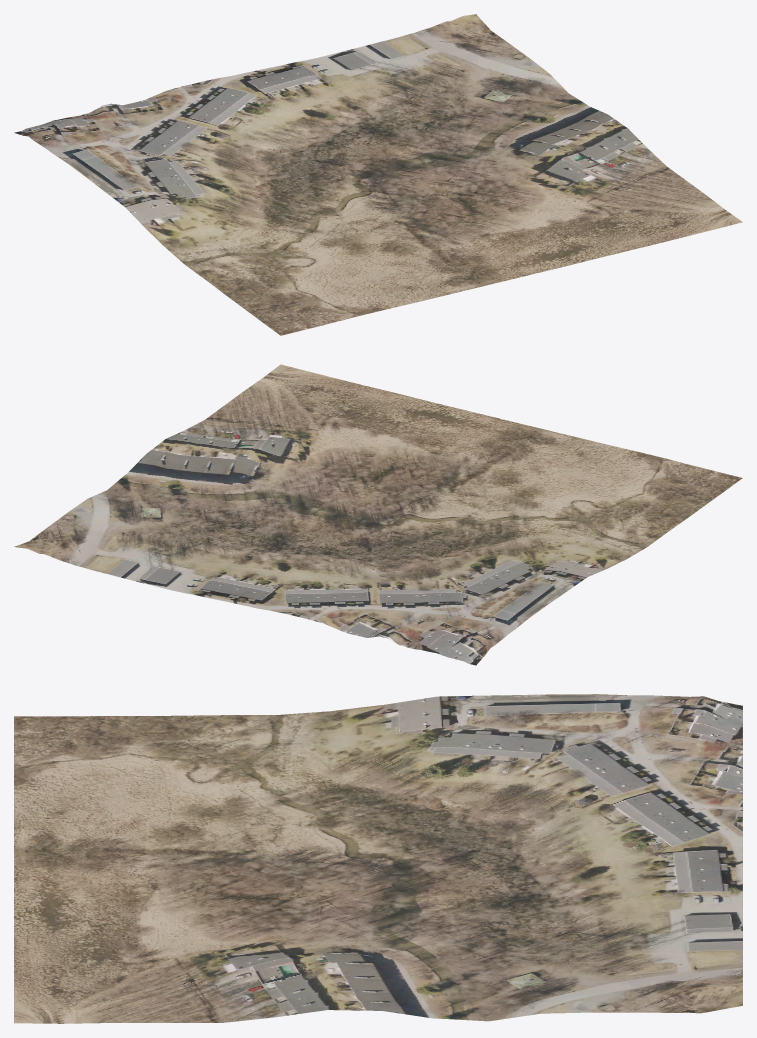
The model's file is CM_Terrain_24490458_6819384.fbx.
3 renders of one model, top to bottom at view 1: azimuth 30°, elevation 25°; view 2: azimuth 150°, elevation 25°; view 3: azimuth 270°, elevation 25°, orthographic. The views are drawn at different scales.
Visible parts, largest first — view 1: CM_Terrain_24490458_6819384_LOD0; view 2: CM_Terrain_24490458_6819384_LOD0; view 3: CM_Terrain_24490458_6819384_LOD0.
Part boxes in pixels (x1=…): CM_Terrain_24490458_6819384_LOD0: x1=14, y1=14, x2=742, y2=335; CM_Terrain_24490458_6819384_LOD0: x1=14, y1=364, x2=742, y2=665; CM_Terrain_24490458_6819384_LOD0: x1=14, y1=694, x2=742, y2=1023.
Size of what is drawn, in the model's own units: 205 by 7.81 by 205.
